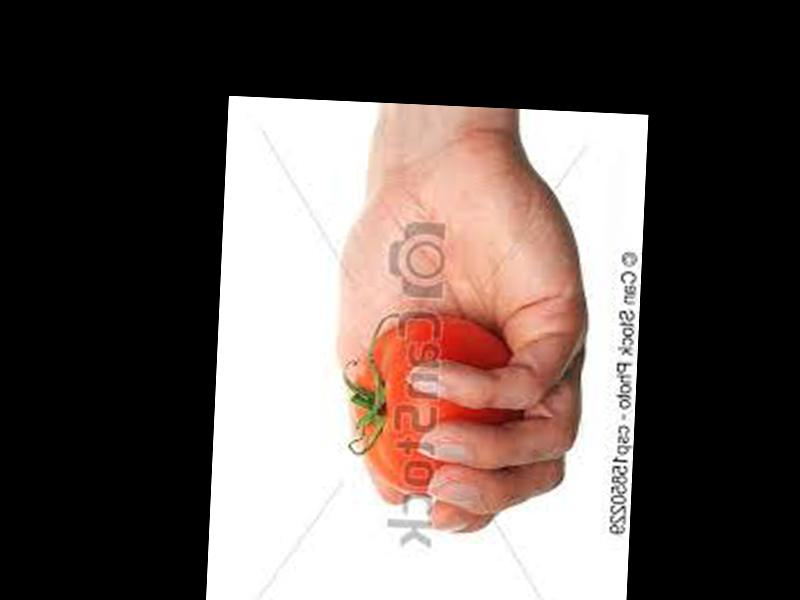Tomato: (351, 316, 521, 499)
